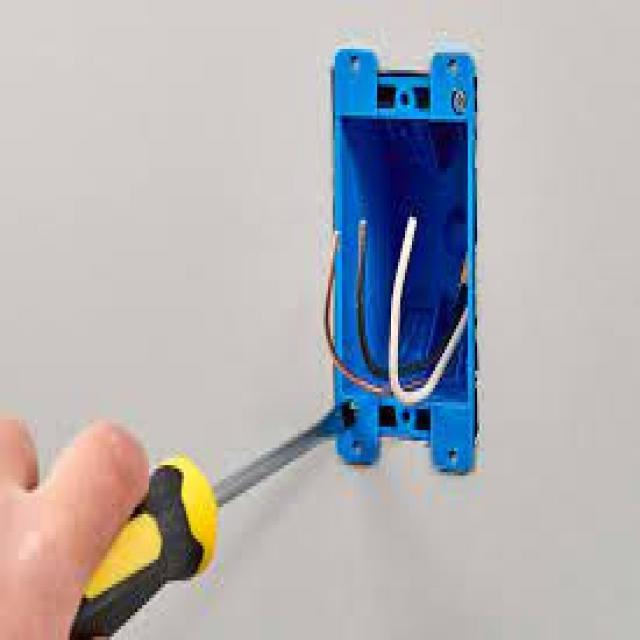screwdriver: (66, 388, 366, 640)
